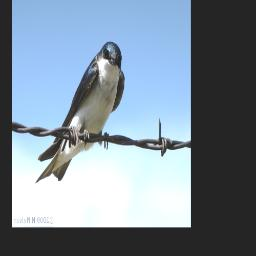Swallow: (37, 42, 125, 183)
